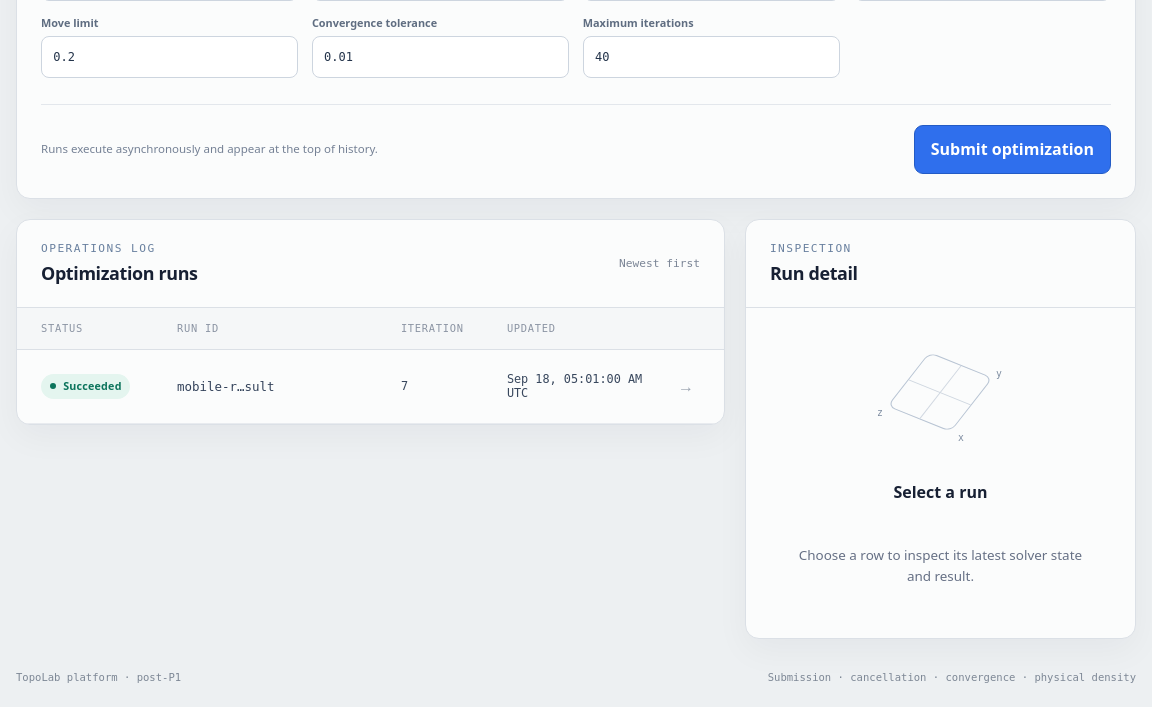
Test: App › reveals the detail panel after a small-screen selection
(page scrolled)
What coordinates should you click on to do the following:
click the button with aria-label "Open run mobile-result"
I would click on:
 (86, 386)
Its box is [17, 350, 724, 424].
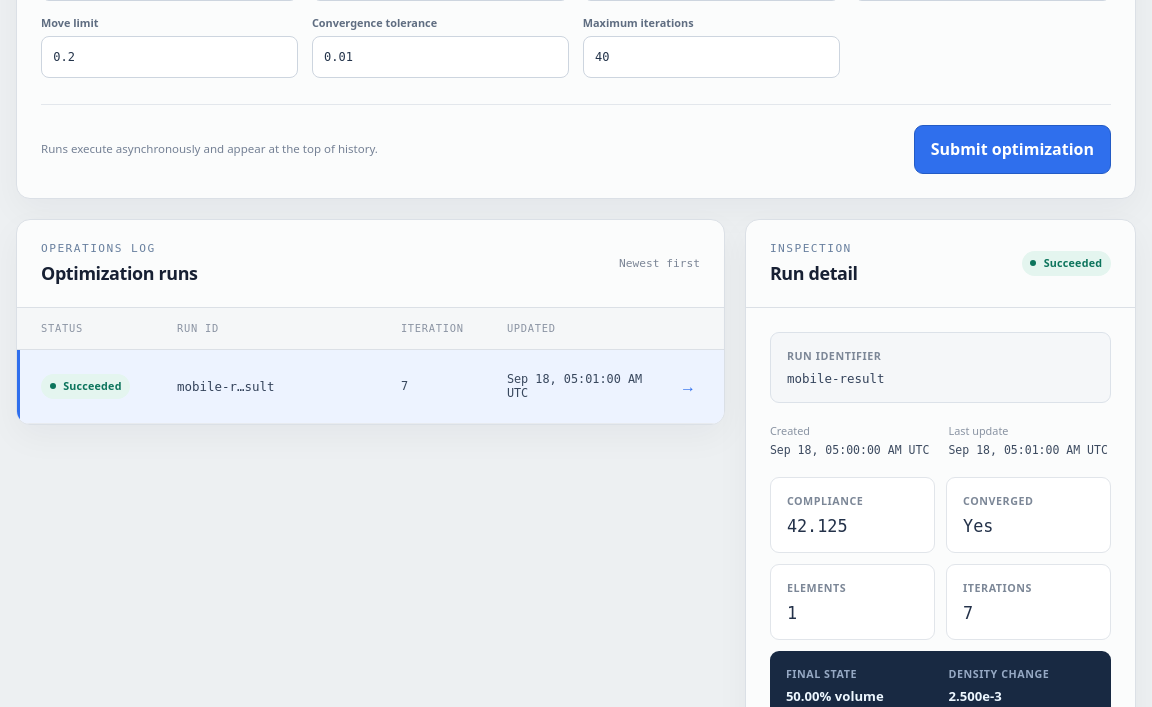
Check: the text "42.125" is shown, box [787, 516, 848, 536]
